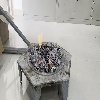fire: (38, 33, 42, 48), (50, 64, 51, 68)
